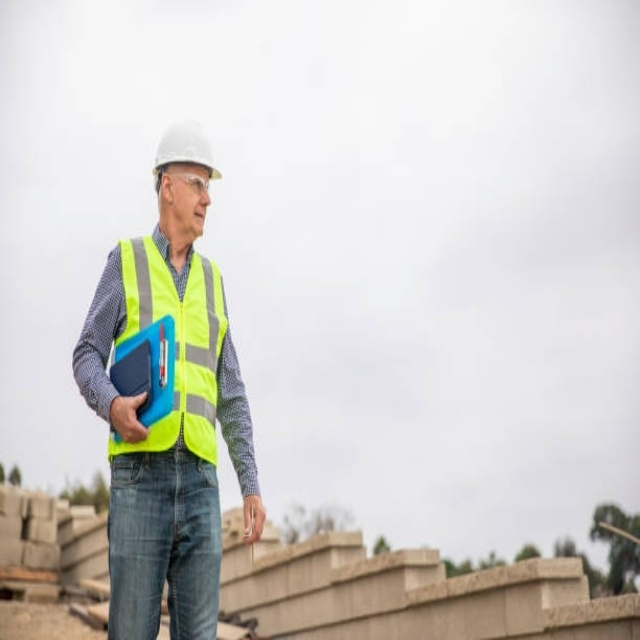Gafas: (165, 171, 211, 193)
Sin_guantes: (110, 393, 152, 445), (241, 493, 266, 546)
Sin_mascara: (188, 205, 208, 235)
